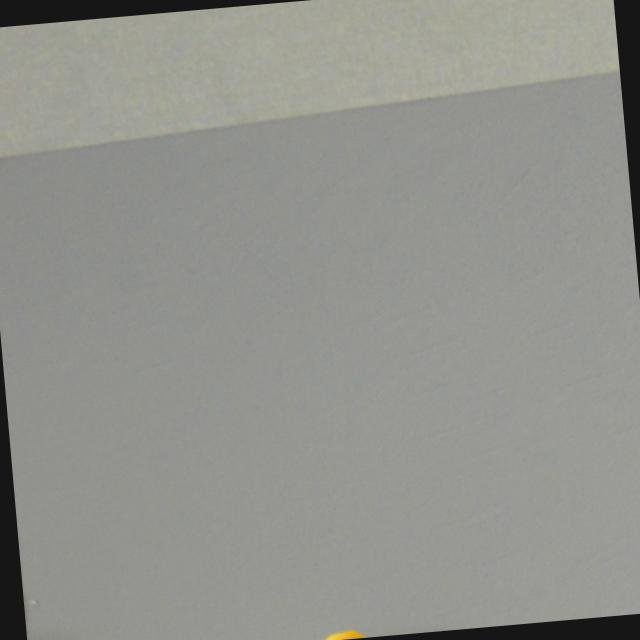dañado: (266, 619, 386, 640)
